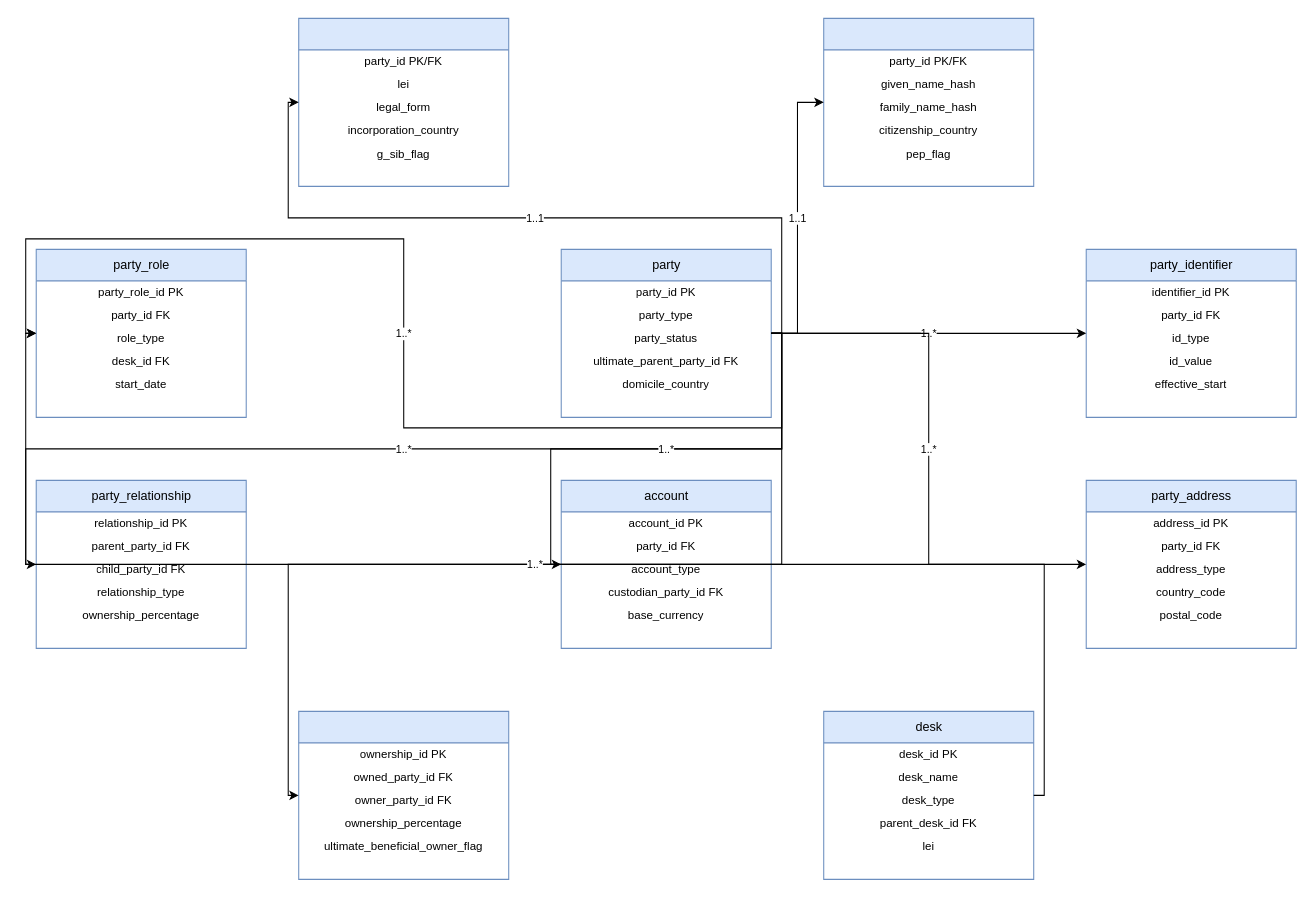
This 1315x898 diagram has some shape labels left out. The box of each missing label's shape, as (x1, y1, x2, y2) in pixels:
beneficial_ownership: (298, 710, 509, 879)
legal_entity: (298, 17, 509, 186)
natural_person: (823, 17, 1034, 186)
